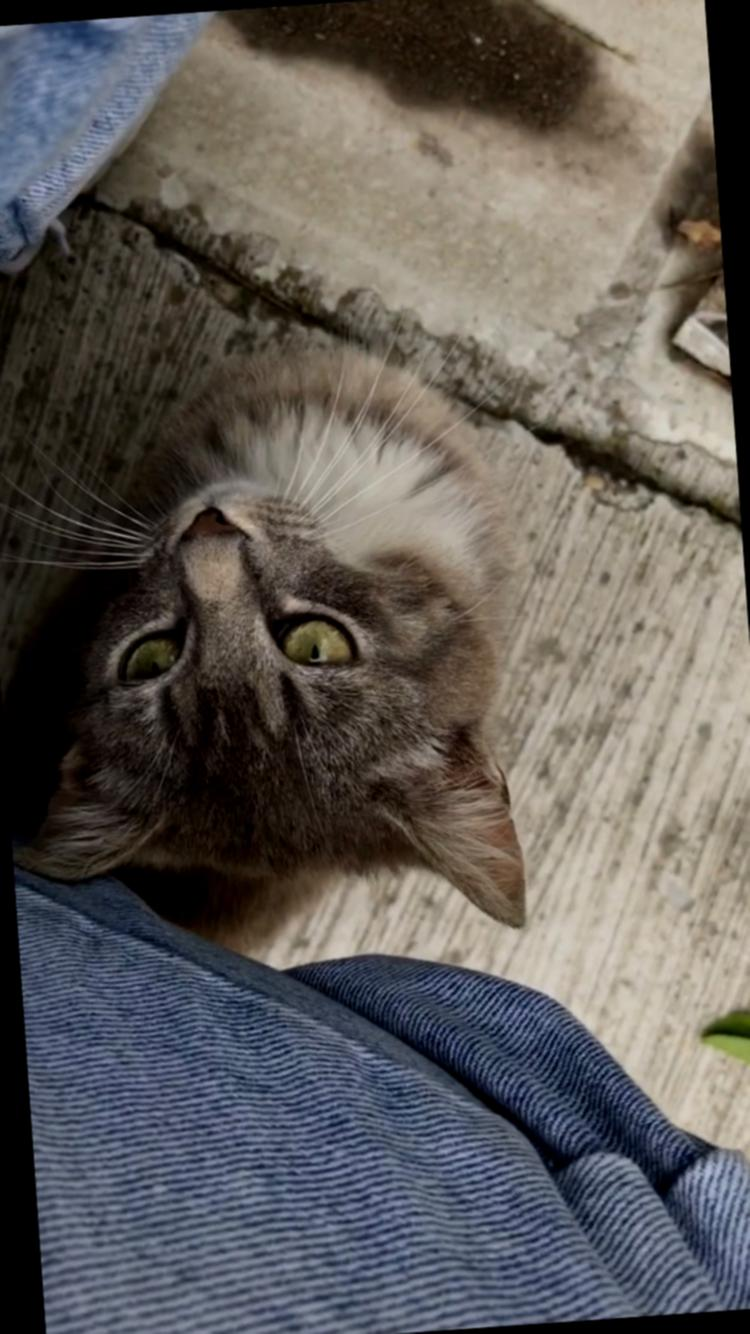macka: (0, 337, 536, 965)
